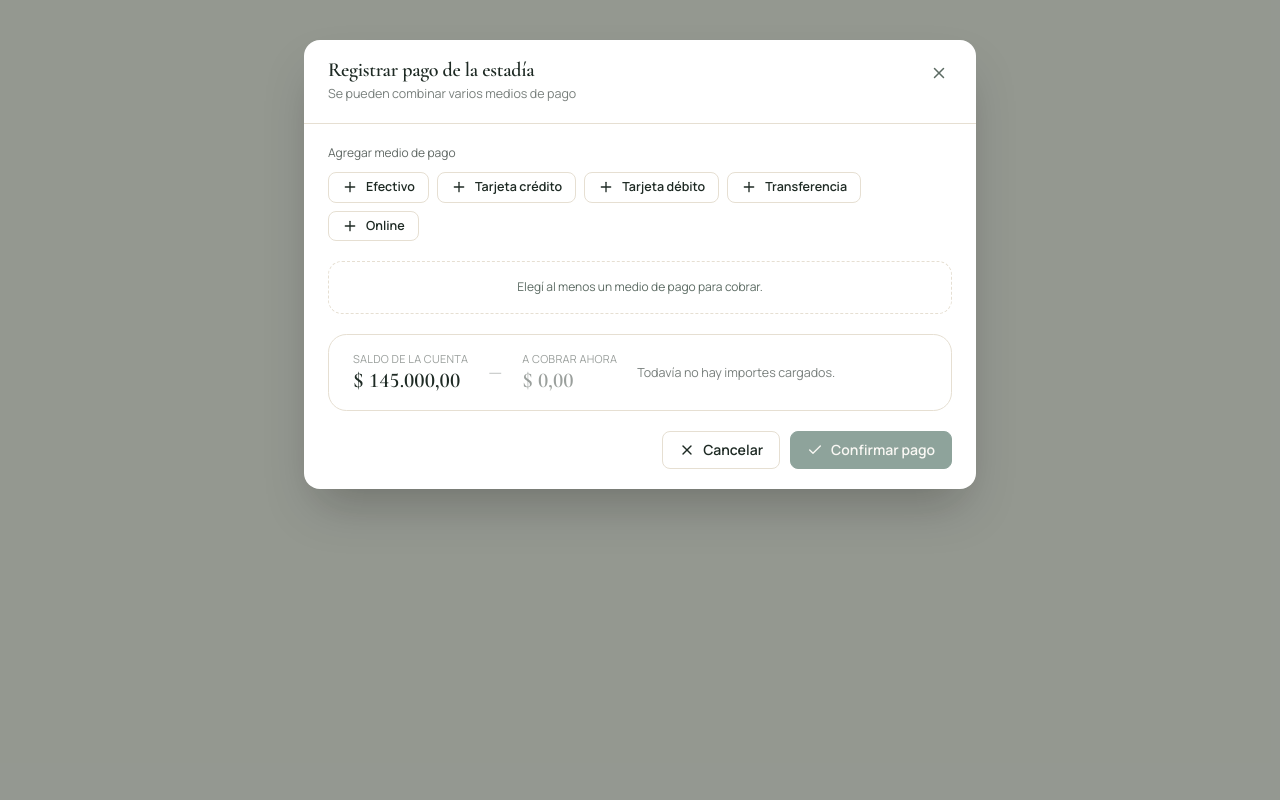
Test: PagoEstadiaWizard con tarjeta simulada › número inválido, vencida o sin titular: no llega al procesador
Click the button "Tarjeta crédito" at coordinates (507, 187), box 437,172 -> 576,203
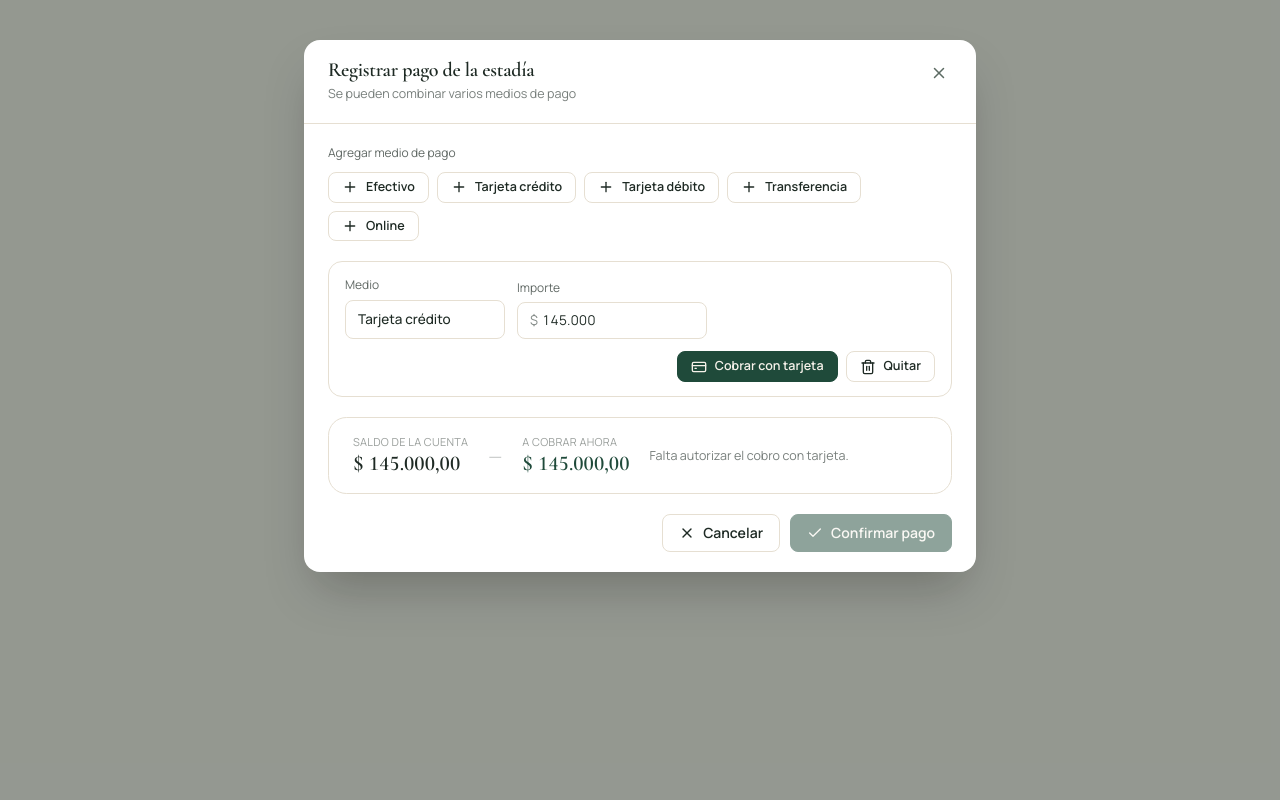
Click the button "Cobrar con tarjeta" at coordinates (757, 367), box 677,351 -> 838,382
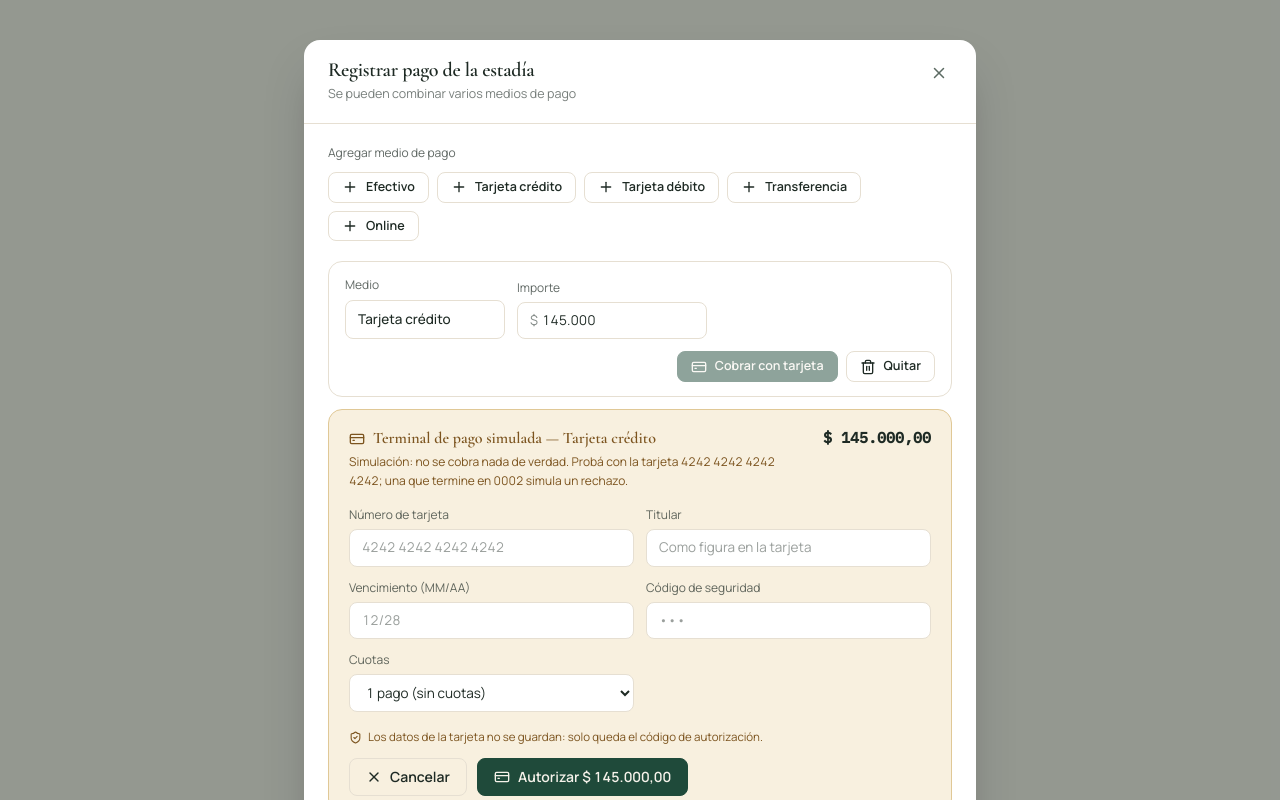
Type "4242424242424241" into the field labelled "Número de tarjeta" at coordinates (492, 548), box 349,529 -> 634,567
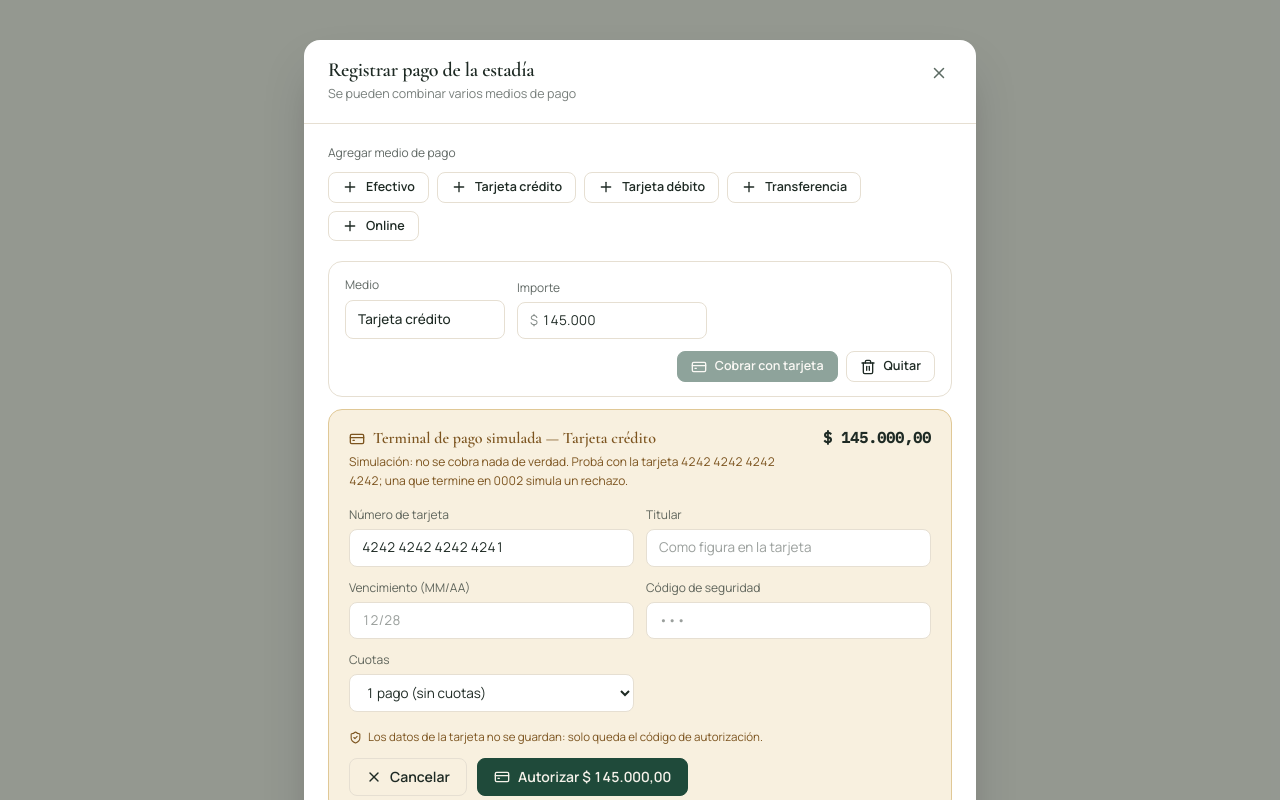
Type "0120" into the field labelled "Vencimiento (MM/AA)" at coordinates (492, 620), box 349,602 -> 634,639
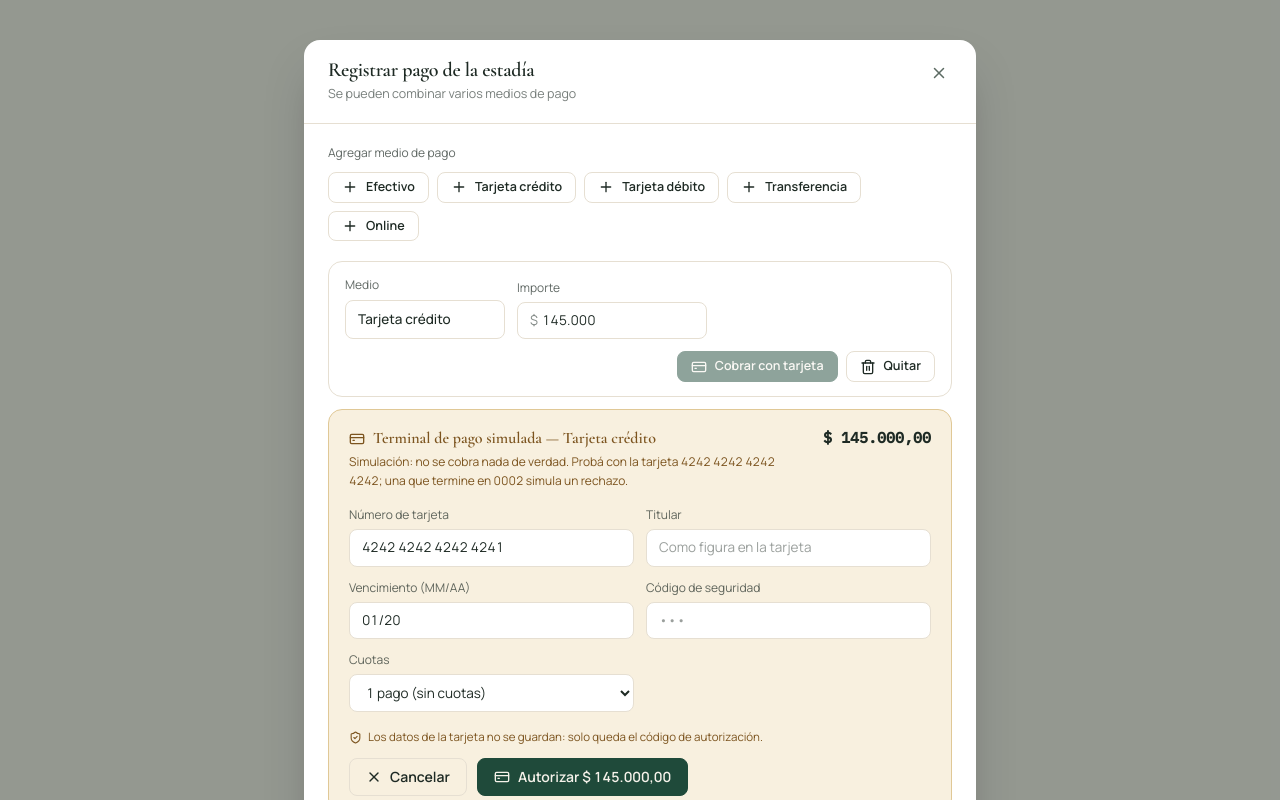
Type "12" into the password field labelled "Código de seguridad" at coordinates (788, 620), box 646,602 -> 931,639
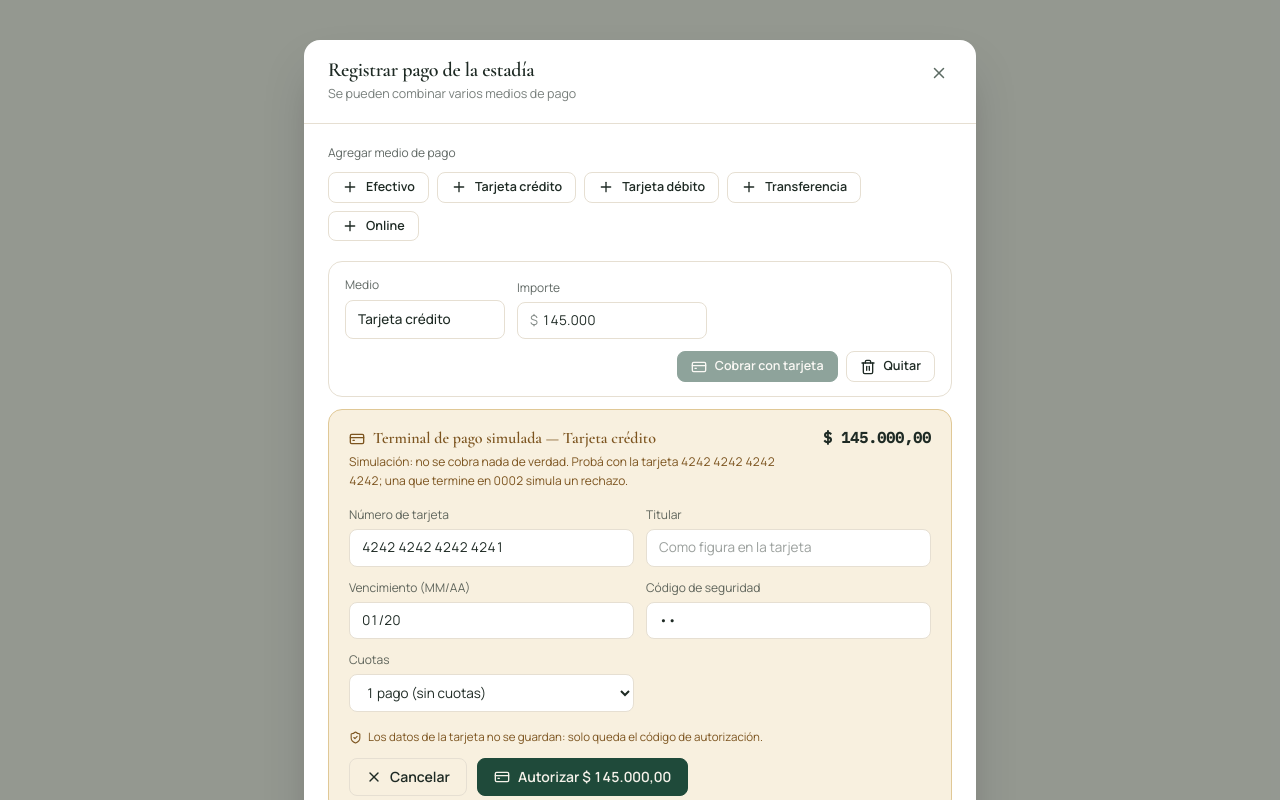
Click the button "Autorizar $ 145.000,00" at coordinates (582, 777), box 477,758 -> 688,796
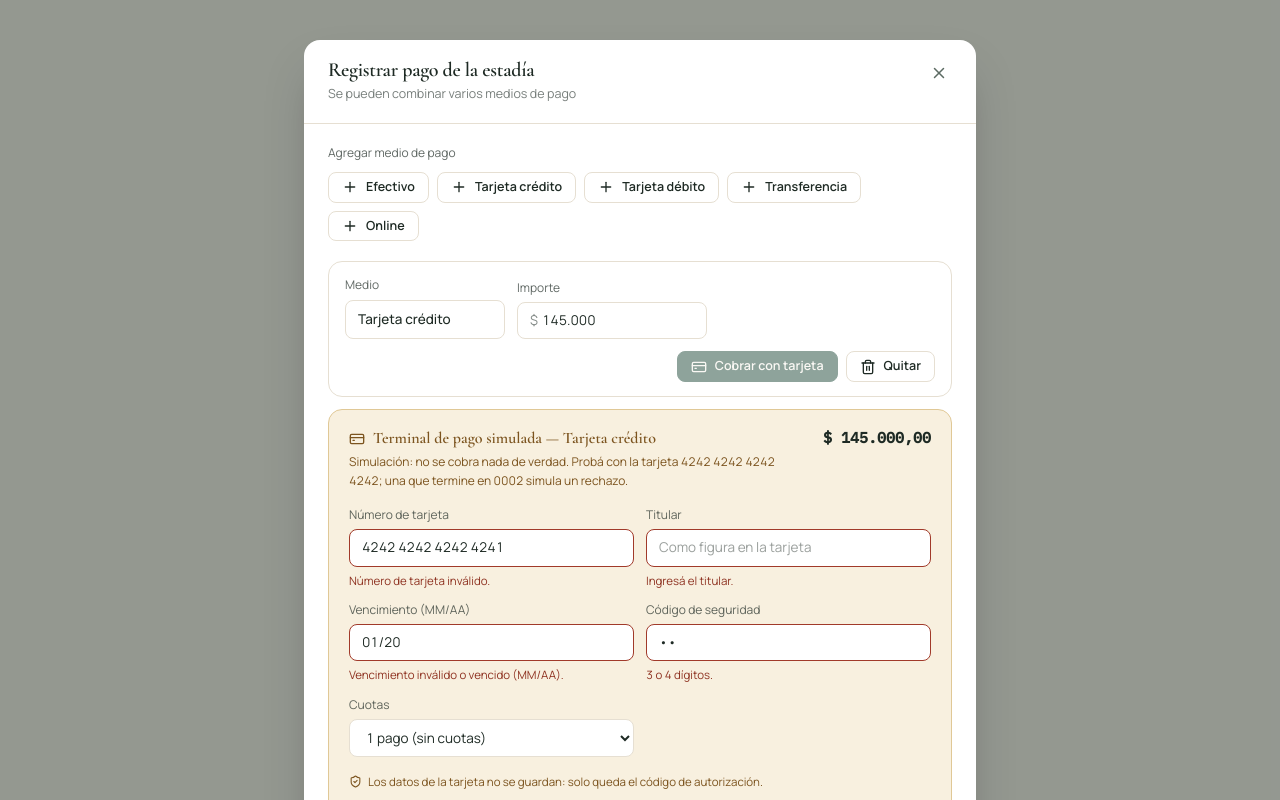
Now the text "Número de tarjeta inválido." is shown, box 349,572 -> 490,588
Now the text "Ingresá el titular." is shown, box 646,572 -> 734,588
Now the text "Vencimiento inválido o vencido (MM/AA)." is shown, box 349,667 -> 564,682
